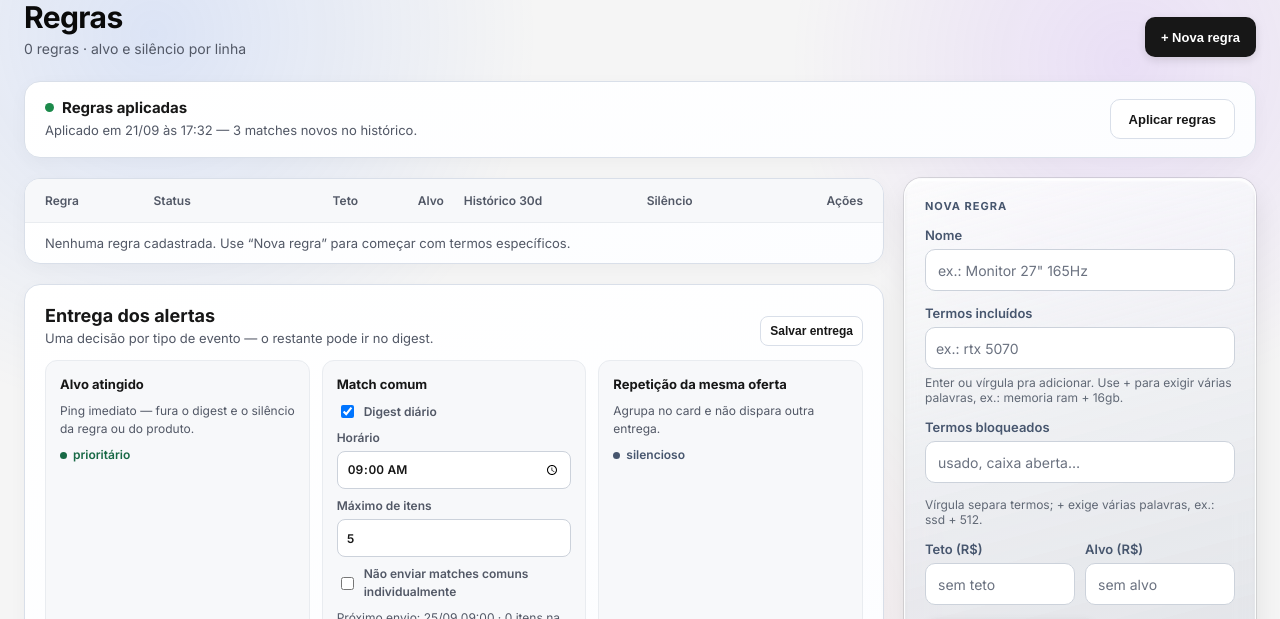
Scenario: RegrasPage › S13-07: "Testar" on the still-unsaved "Nova regra" form tests exactly what is typed
This screenshot has width=1280, height=619.
Type "rtx 5070" into the field labelled "Termos incluídos".
click(1080, 348); type("rtx 5070")  # box 936,339 -> 1224,356
Then press Enter
(page scrolled)
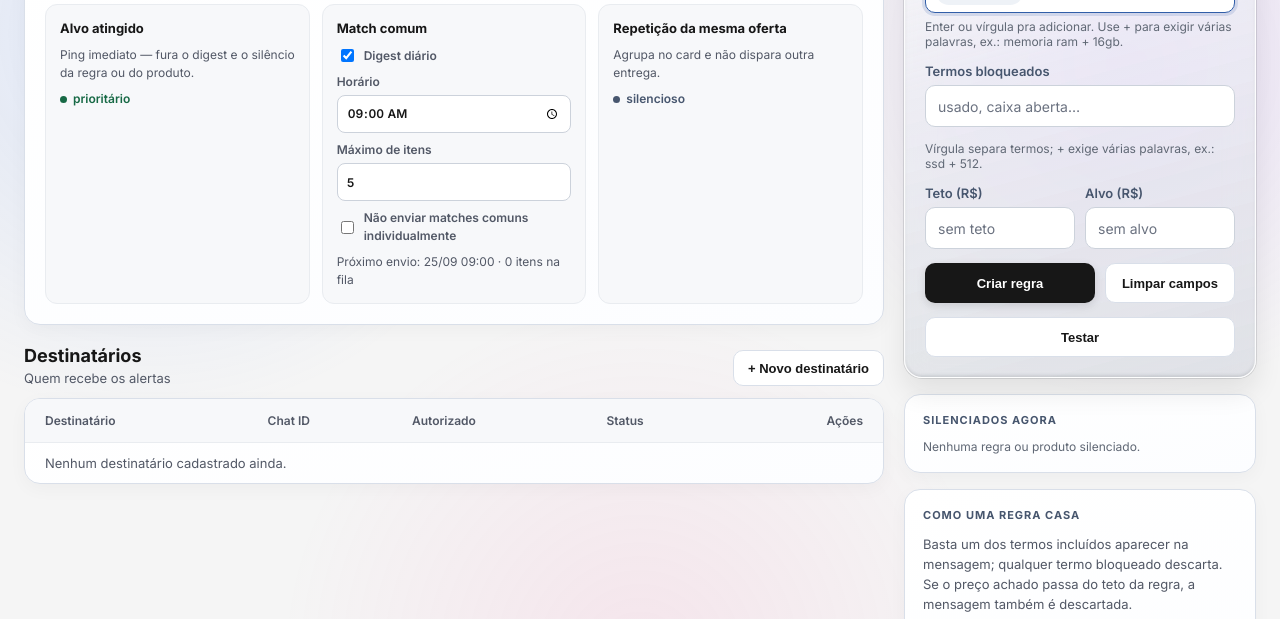
Click the button "Testar".
click(1080, 337)  # box 925,317 -> 1235,357
(page scrolled)
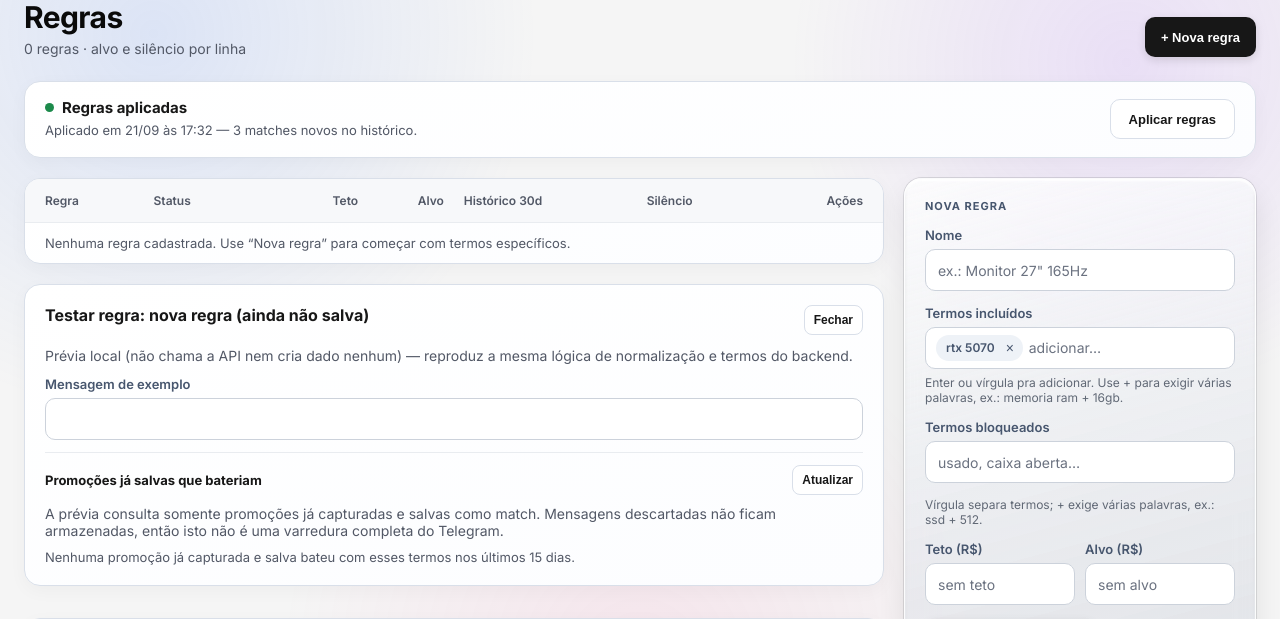
Check: the text "Nenhuma promoção já capturada e salva bateu com esses termos nos últimos 15 dias" is shown, box 45,549 -> 575,565
Check: the text "somente promoções já capturadas e salvas como match" is shown, box 45,505 -> 776,539
Check: the heading "Testar regra: nova regra (ainda não salva)" is shown, box 45,305 -> 369,325
